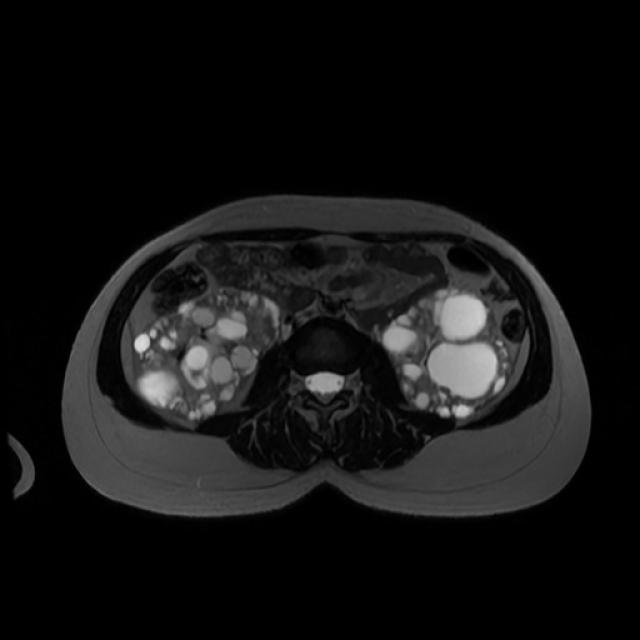sag: (134, 287, 283, 421)
sol: (387, 286, 512, 419)
